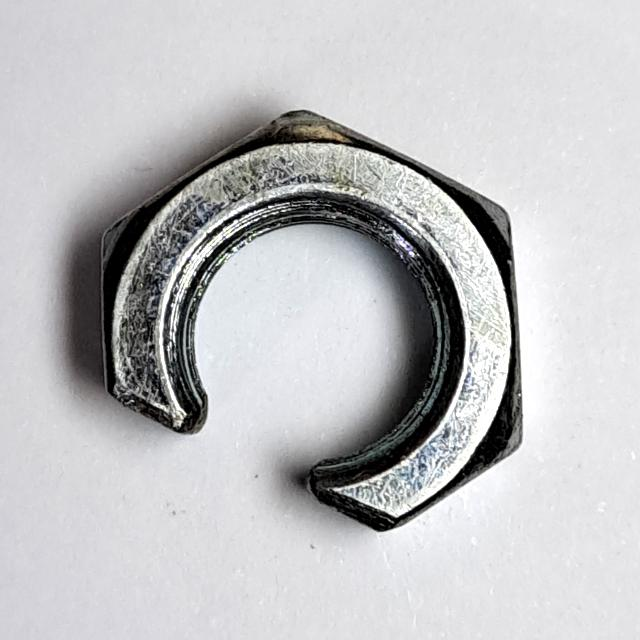Fracture: (83, 90, 541, 552)
